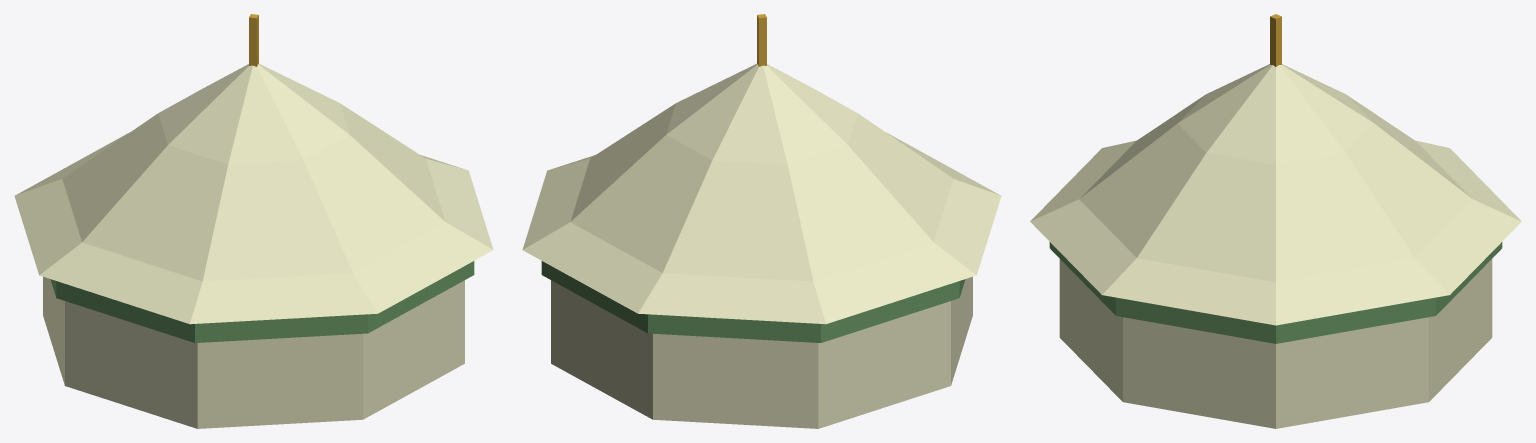
File: tent_octagon.fbx
3 views of the same model, side by side, from view 1: azimuth 30°, elevation 25°; view 2: azimuth 150°, elevation 25°; view 3: azimuth 270°, elevation 25° (orthographic).
Visible parts, largest first — view 1: tent_octagon; view 2: tent_octagon; view 3: tent_octagon.
Part boxes in pixels (bbox=[...]): tent_octagon: bbox=[14, 14, 493, 428]; tent_octagon: bbox=[522, 14, 1001, 428]; tent_octagon: bbox=[1030, 14, 1521, 428].
Bounding box in the file's own units: 5 × 3.6 × 5.
1 material, 1 textured.
